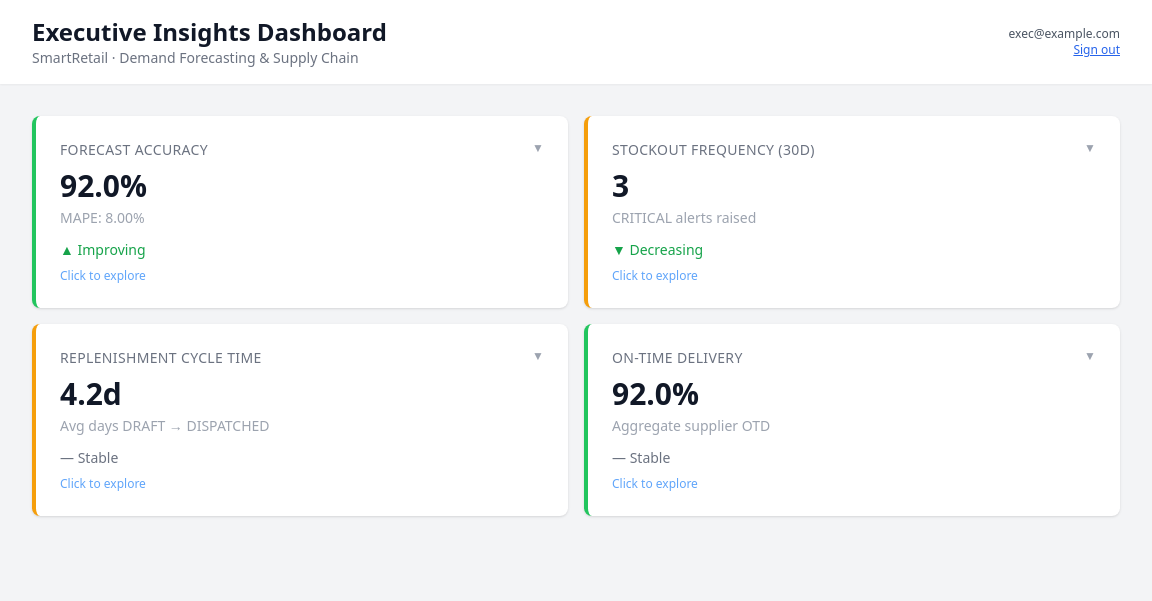
ExecutiveDashboard › expands forecast detail panel when Forecast Accuracy card is clicked
Click the button "Forecast Accuracy".
click(134, 150)  # box [32,116,568,308]
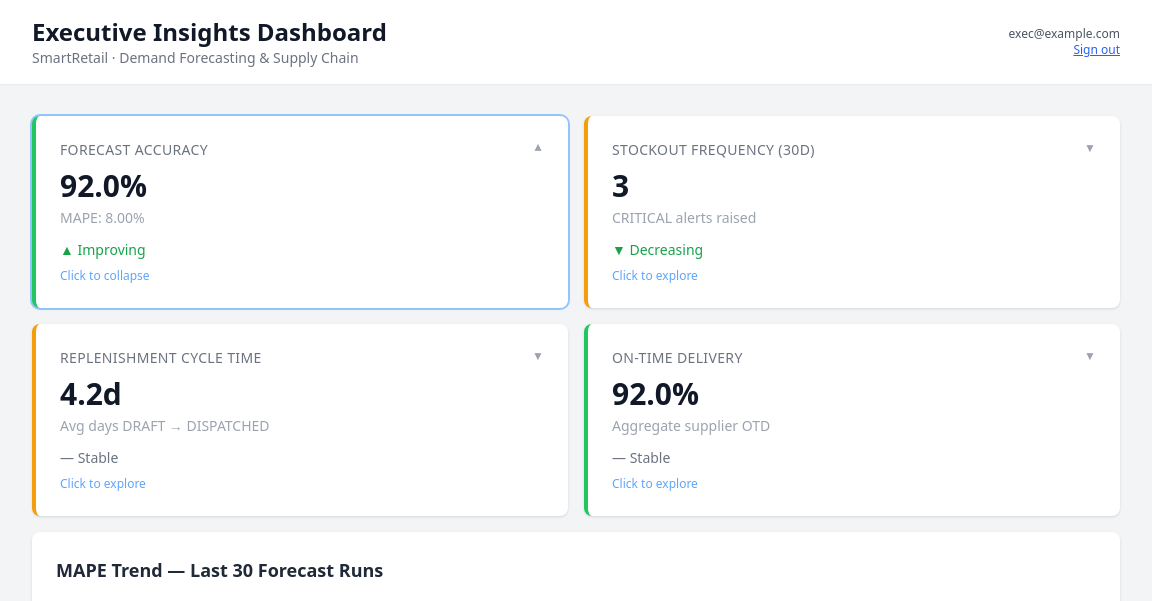
Check: the heading "MAPE Trend — Last 30 Forecast Runs" is shown, box [56,558,383,582]
